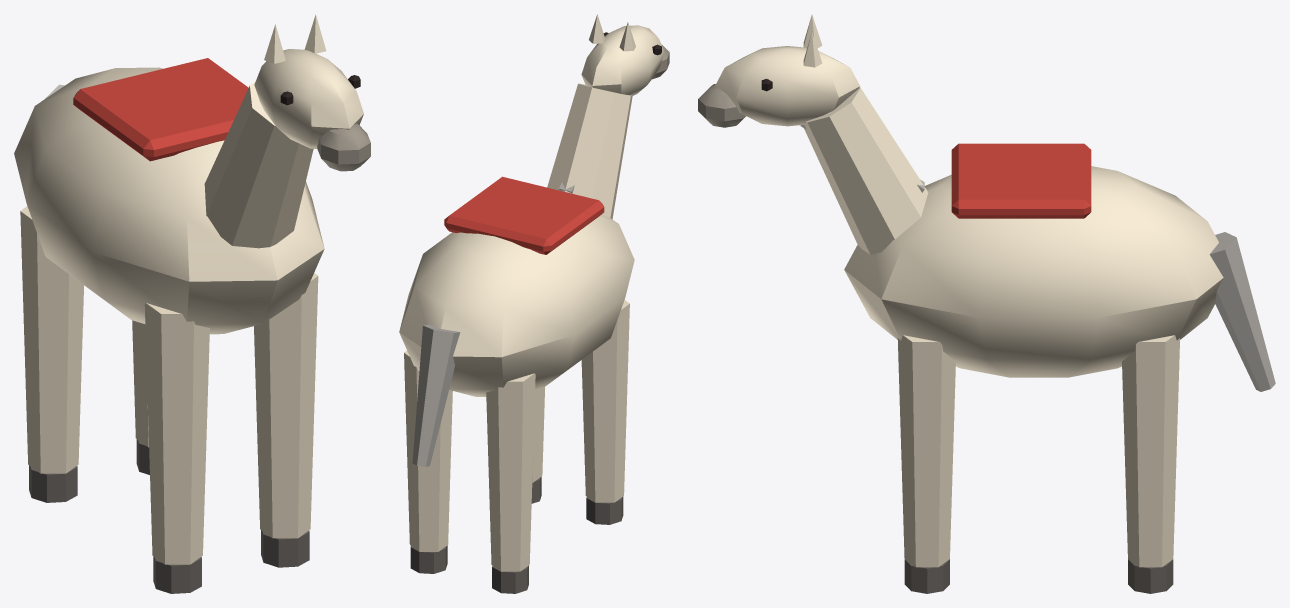
The model's file is PR_Nature_At2.fbx.
3 renders of one model, left to right at view 1: azimuth 30°, elevation 25°; view 2: azimuth 150°, elevation 25°; view 3: azimuth 270°, elevation 25°, orthographic. The views are drawn at different scales.
Parts seen in each view (by area): view 1: PR_Nature_At2; view 2: PR_Nature_At2; view 3: PR_Nature_At2.
Boxes of the visible parts, <box> form: PR_Nature_At2: <box>14,14,370,593</box>; PR_Nature_At2: <box>399,14,669,593</box>; PR_Nature_At2: <box>698,14,1275,593</box>.
Size of the model in its own units: 0.6505 by 1.7 by 1.65.
Materials: 1 (1 with a texture image).
